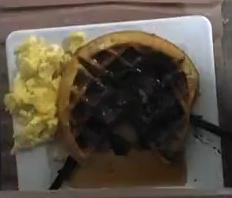scrambled_eggs: (5, 37, 71, 139)
waffle: (58, 31, 199, 161)
